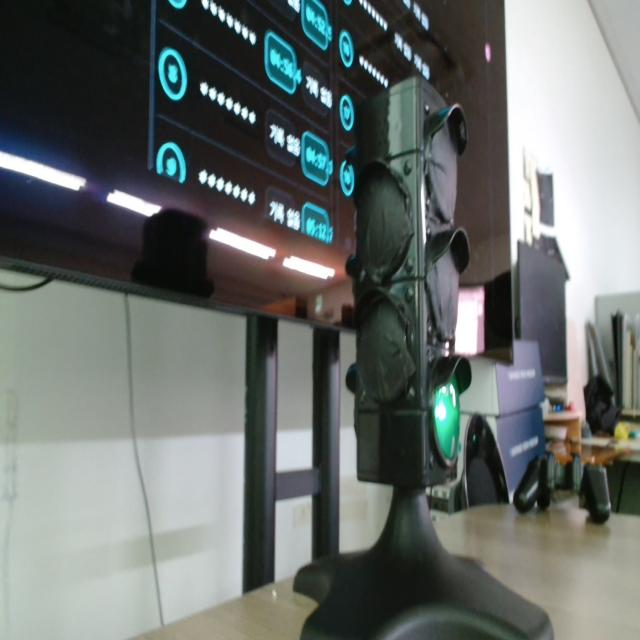green_light: (434, 376, 460, 463)
